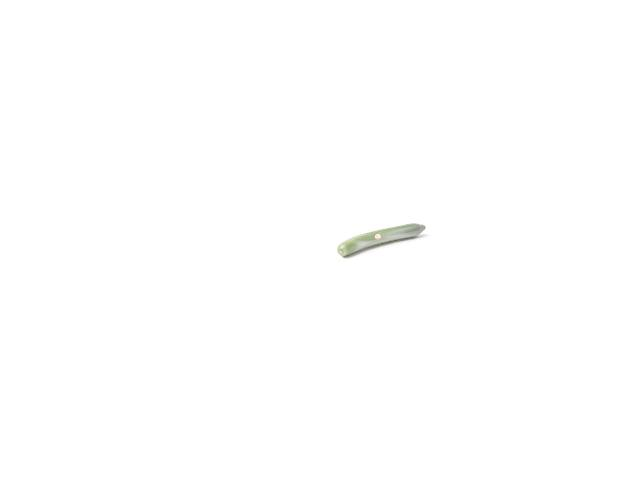cucumber: (336, 223, 425, 256)
